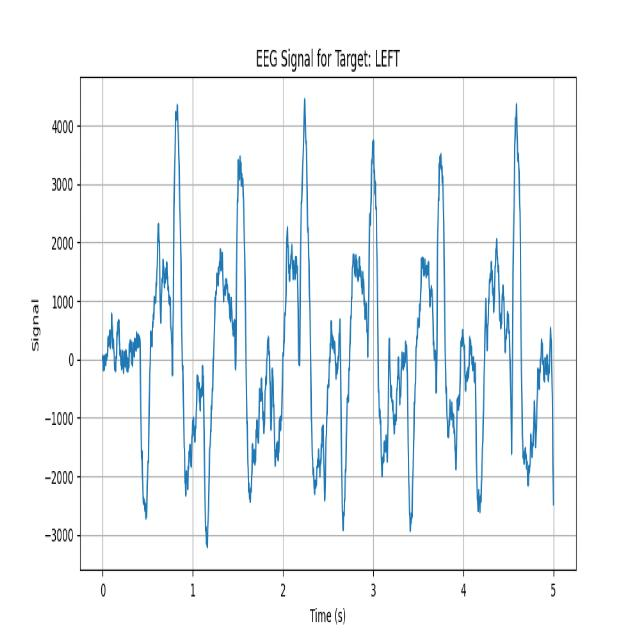LEFT: (125, 95, 199, 557), (458, 86, 530, 555), (331, 84, 397, 558), (266, 89, 332, 553), (199, 93, 265, 555), (397, 83, 459, 558)
